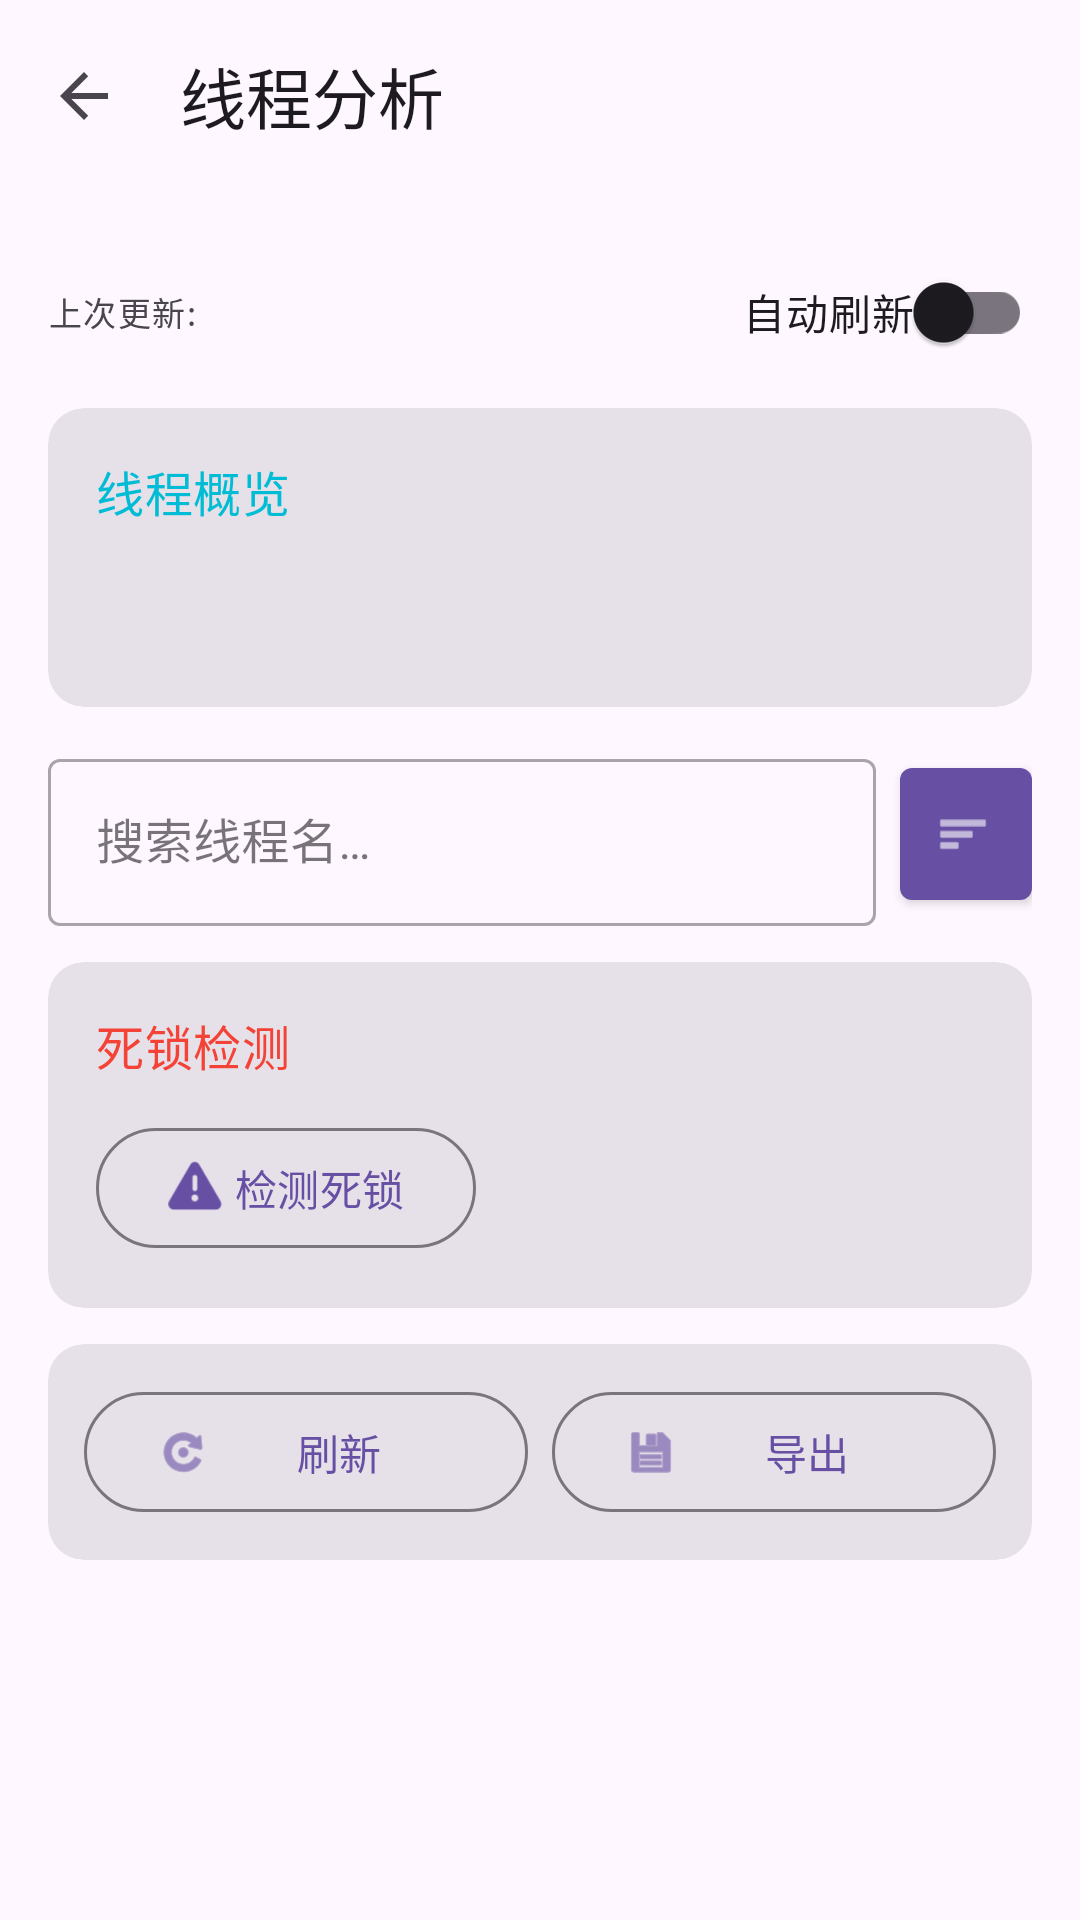

Named icons in this screenshot (1080w x 1920h) and their bounding boxes, box=[x1, y1, x2, y2]:
sort by size: box=[900, 768, 1032, 900]
